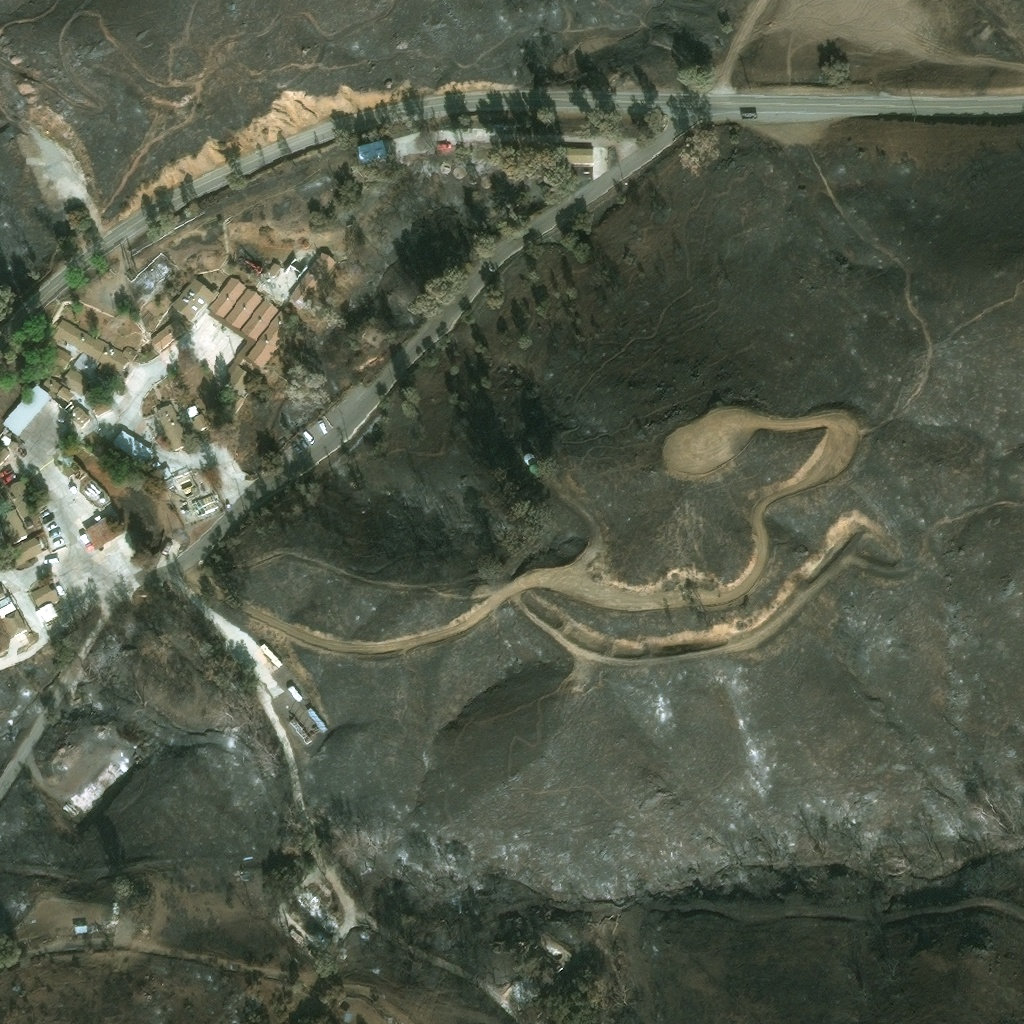0 no-damage: (48, 318, 130, 376), (239, 311, 295, 374), (287, 252, 336, 311), (0, 383, 51, 438), (170, 277, 213, 322), (209, 275, 246, 319), (154, 402, 189, 448), (241, 300, 279, 341), (225, 288, 262, 330), (83, 512, 125, 549), (112, 429, 154, 465), (31, 583, 65, 625), (6, 479, 37, 519), (6, 537, 42, 567), (152, 319, 185, 350), (0, 508, 28, 544), (40, 375, 74, 404), (62, 367, 92, 397), (85, 387, 113, 416), (356, 139, 387, 165), (286, 718, 313, 745), (305, 705, 330, 734), (192, 492, 220, 516), (259, 642, 284, 668), (226, 365, 248, 392), (1, 611, 25, 635), (563, 147, 593, 165), (69, 405, 91, 427), (0, 596, 16, 619), (286, 684, 304, 703), (78, 532, 94, 553), (191, 413, 208, 431), (267, 262, 282, 276), (185, 404, 199, 418), (123, 346, 136, 361), (341, 1009, 349, 1018)
2 major-damage: (277, 918, 308, 948), (73, 919, 104, 933)
3 destroyed: (293, 884, 341, 935), (230, 239, 270, 276), (135, 255, 172, 295), (538, 930, 574, 966), (509, 976, 538, 1008), (463, 140, 489, 155), (62, 794, 80, 814), (530, 976, 543, 989), (124, 287, 137, 300), (240, 869, 250, 879), (555, 963, 563, 971)
4 un-classified: (144, 413, 161, 434), (523, 453, 533, 463), (0, 585, 5, 599)
